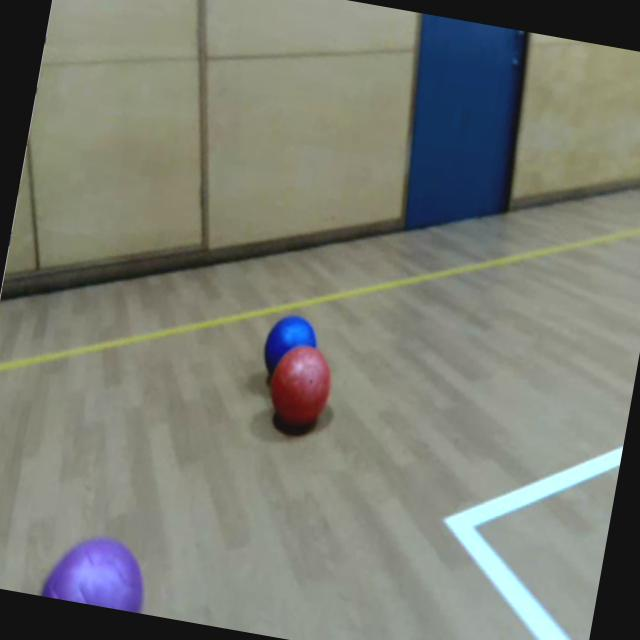blue_ball: (260, 311, 322, 380)
purple_ball: (39, 528, 152, 613)
red_ball: (263, 340, 338, 430)
